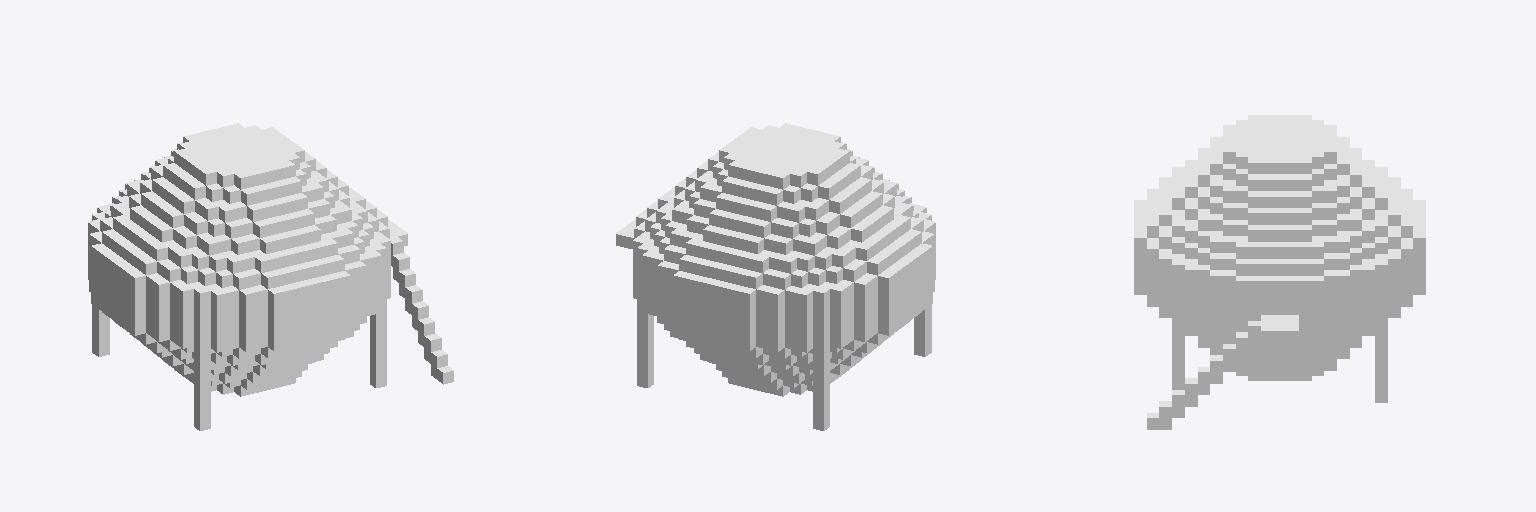
Rendered from gustank.obj.
The picture shows the model from 3 angles: view 1: azimuth 30°, elevation 25°; view 2: azimuth 150°, elevation 25°; view 3: azimuth 270°, elevation 25°; orthographic projection.
Parts seen in each view (by area): view 1: object 1; view 2: object 1; view 3: object 1.
Part boxes in pixels (x1,y1,x2,y2): object 1: (88,123,453,430); object 1: (616,123,935,430); object 1: (1134,115,1425,429).
Size of the model in its own units: 5.2 by 3.8 by 4.6.